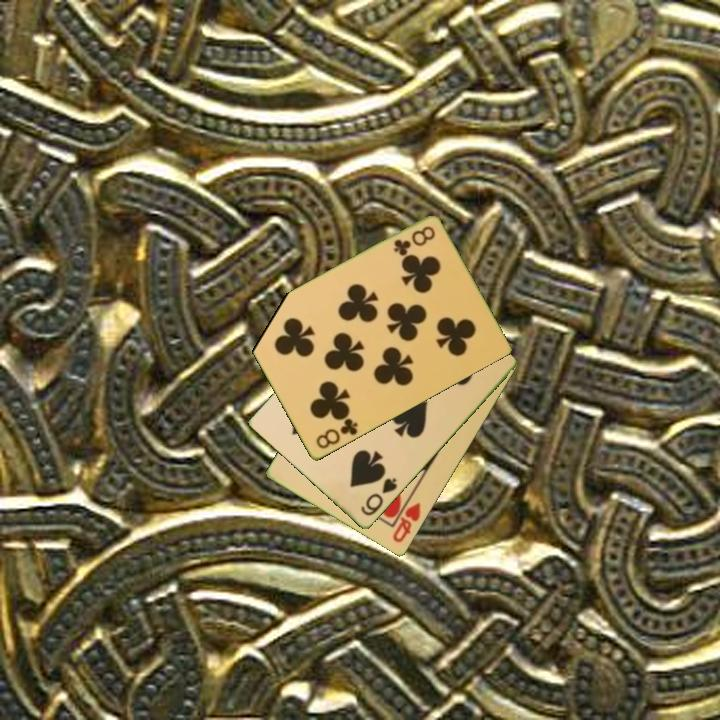6s: (357, 474, 400, 519)
8c: (312, 415, 361, 452), (390, 223, 438, 259)
Qh: (389, 499, 424, 546)
